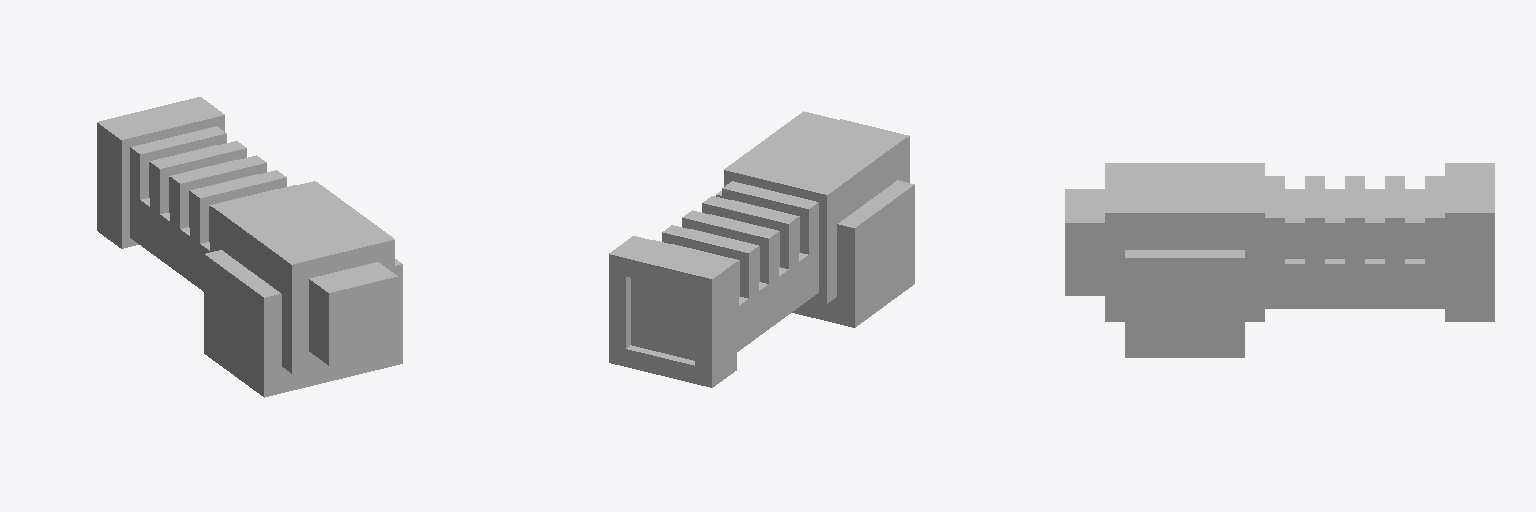
The model's file is laser turret - head.obj.
3 renders of one model, left to right at view 1: azimuth 30°, elevation 25°; view 2: azimuth 150°, elevation 25°; view 3: azimuth 270°, elevation 25°, orthographic.
Parts seen in each view (by area): view 1: laser turret - head; view 2: laser turret - head; view 3: laser turret - head.
Part boxes in pixels (left/top/right/bottom): laser turret - head: left=97, top=97, right=402, bottom=397; laser turret - head: left=609, top=111, right=914, bottom=387; laser turret - head: left=1065, top=163, right=1494, bottom=357.
Size of the model in its own units: 16 by 15 by 43.